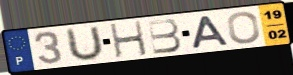3: (33, 30, 65, 66)
A: (190, 15, 231, 50)
B: (146, 17, 184, 55)
H: (108, 20, 150, 60)
O: (225, 10, 262, 45)
U: (65, 24, 106, 63)
